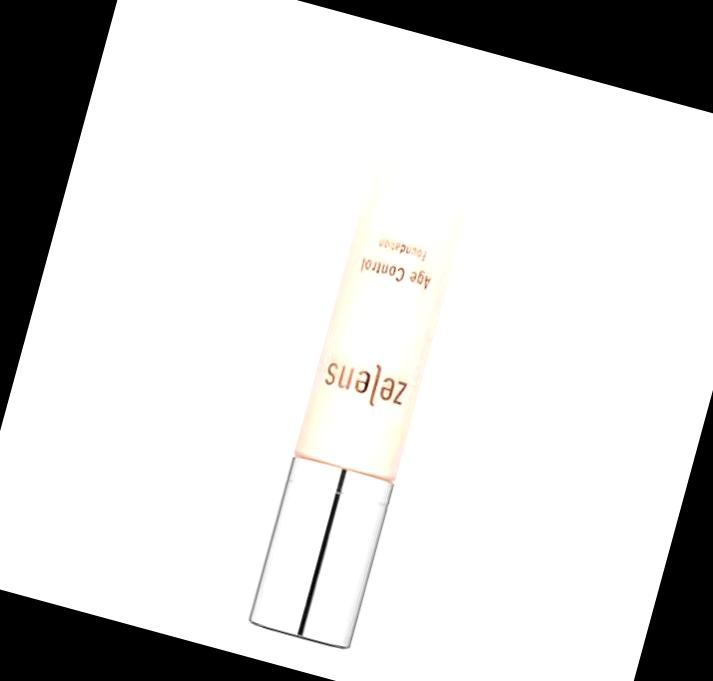cosmetic: (242, 50, 505, 654)
